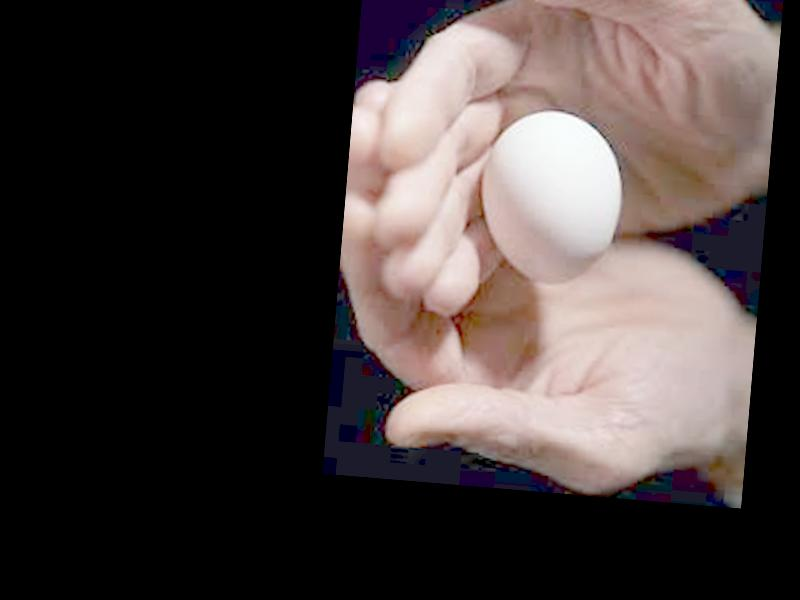Eggs: (476, 105, 629, 287)
